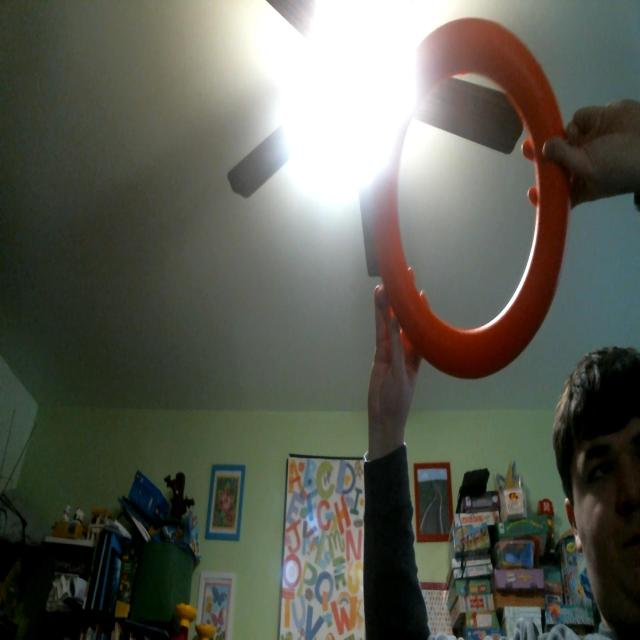note: (370, 14, 570, 387)
